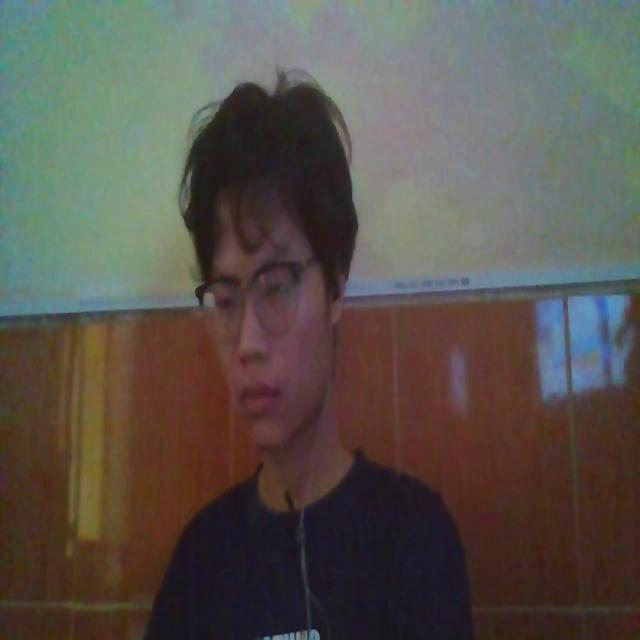student: (138, 59, 476, 640)
